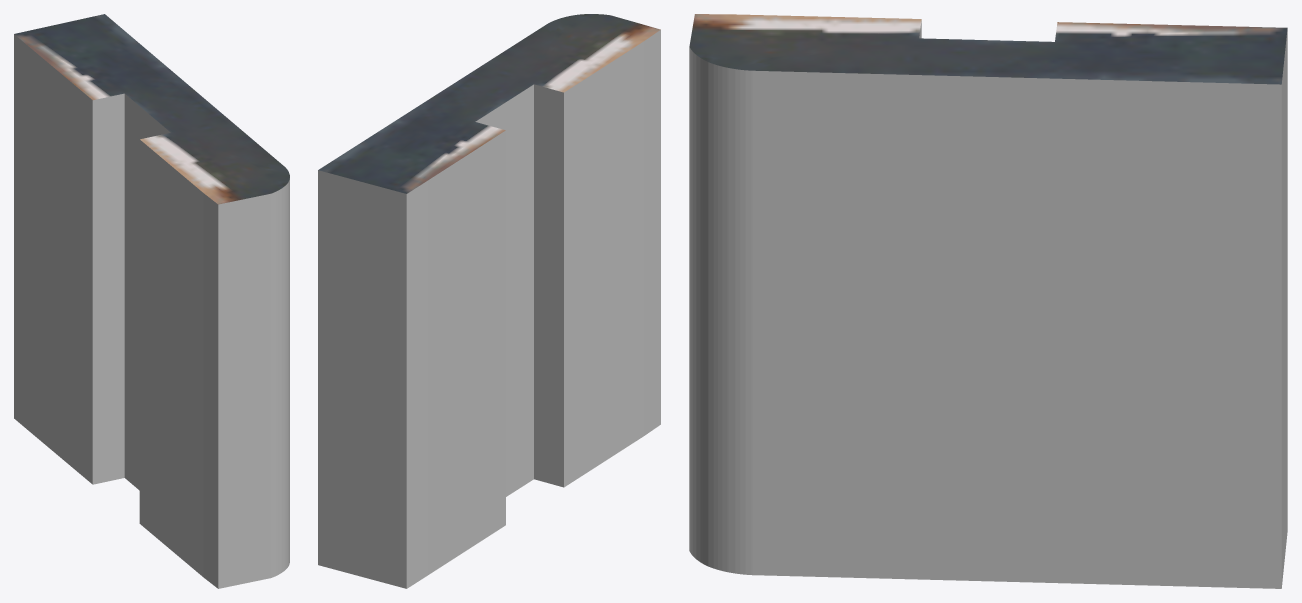
The model's file is DEBW_0010007THvC.gltf.
The picture shows the model from 3 angles, left to right: view 1: azimuth 30°, elevation 25°; view 2: azimuth 150°, elevation 25°; view 3: azimuth 270°, elevation 25°; orthographic projection. The views are drawn at different scales.
Visible parts, largest first — view 1: Z_UP; view 2: Z_UP; view 3: Z_UP.
Part boxes in pixels (left/top/right/bottom): Z_UP: left=14, top=14, right=289, bottom=588; Z_UP: left=318, top=14, right=660, bottom=588; Z_UP: left=689, top=14, right=1287, bottom=588.
Size of the model in its own units: 4.6 by 15.34 by 16.48.
2 materials, 1 textured.
